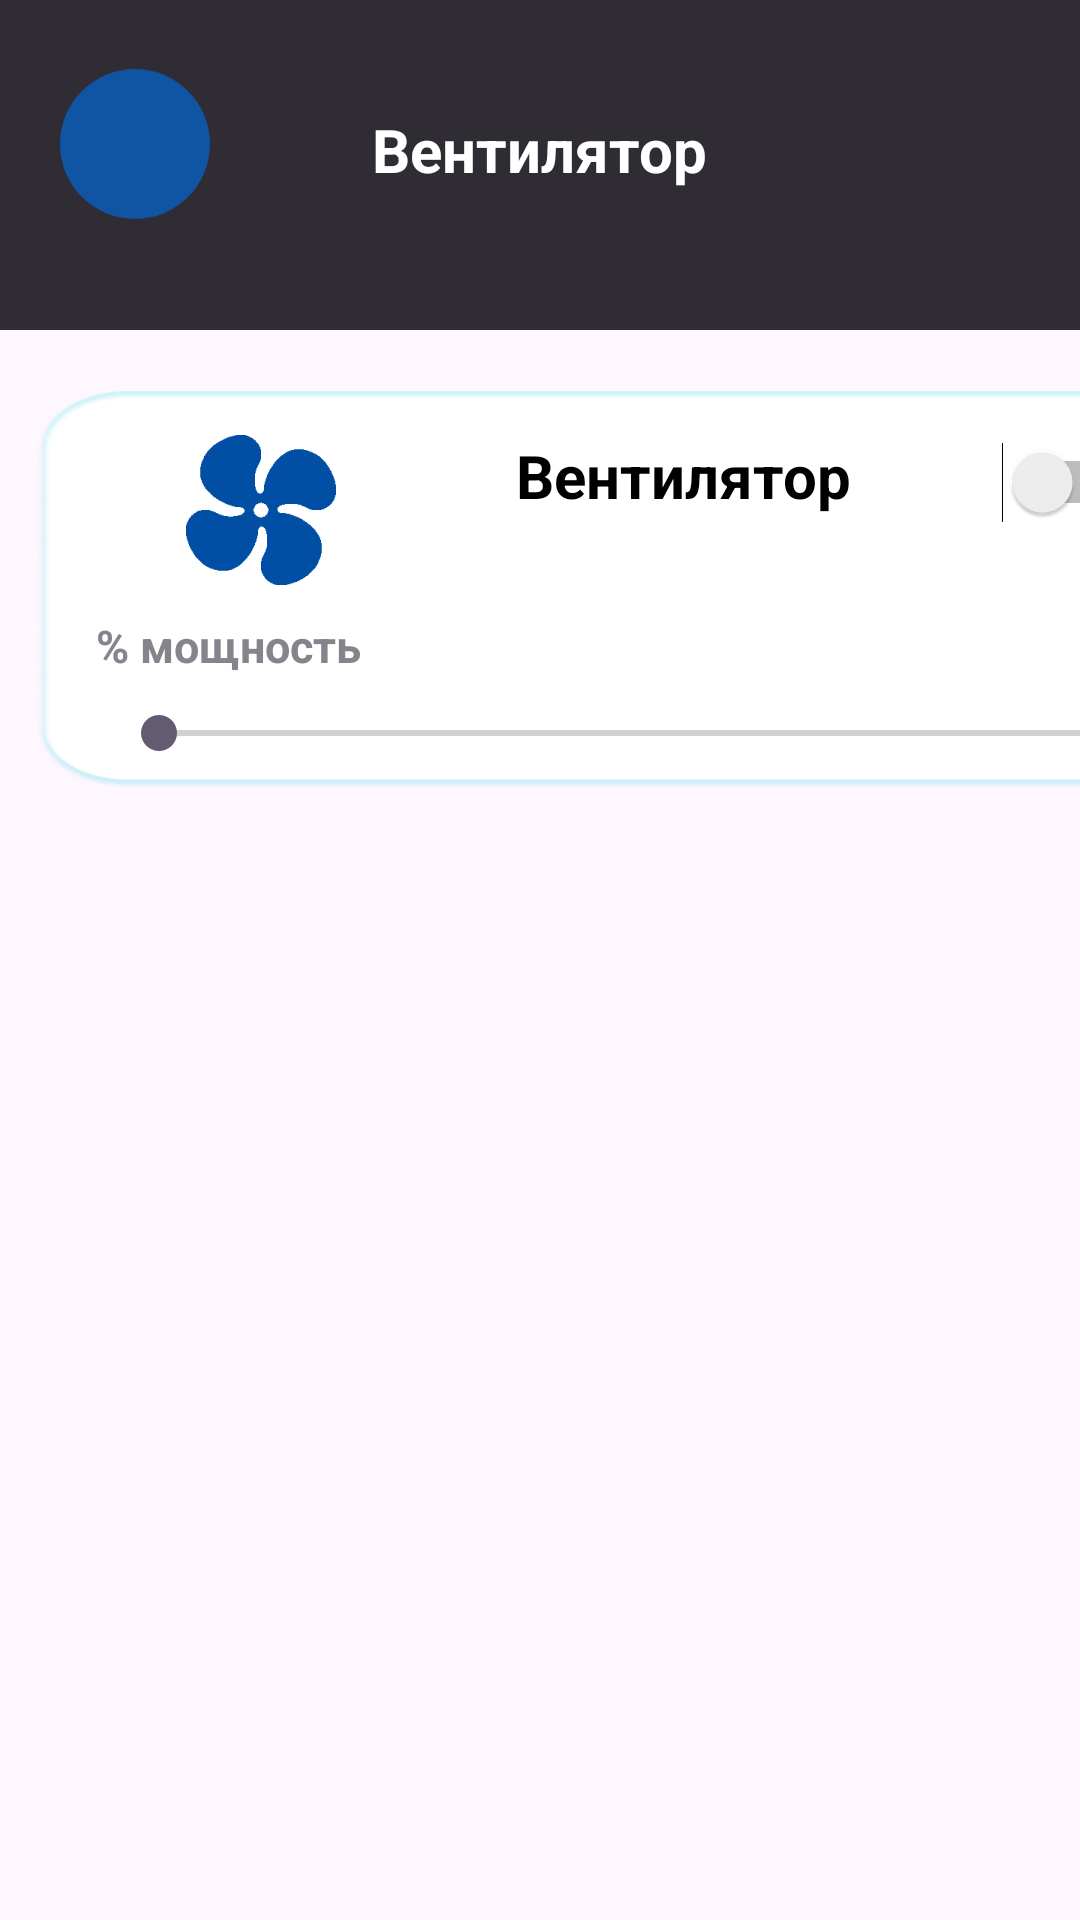

Screen size 1080×1920. Icon name, then its box in pixels as (x1, y1, x2, y2):
fan: (186, 435, 336, 585)
